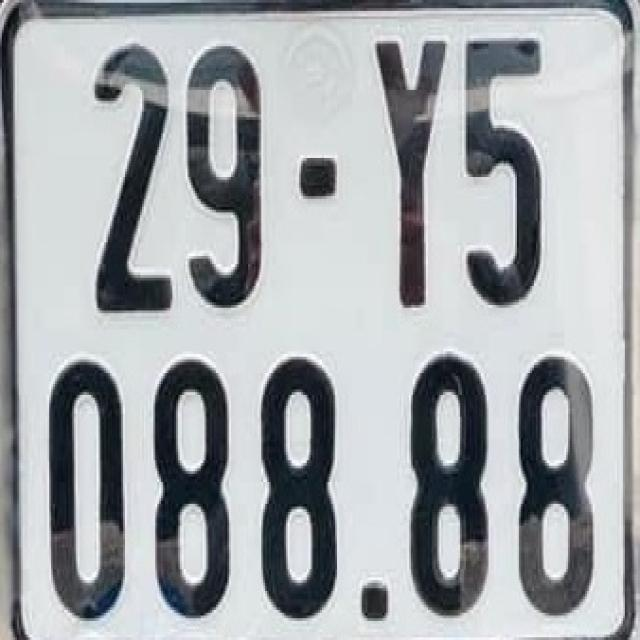0: (44, 351, 130, 621)
2: (84, 35, 177, 318)
5: (456, 26, 551, 309)
8: (254, 343, 346, 624), (404, 343, 494, 621), (512, 344, 601, 620), (148, 348, 235, 624)
9: (180, 35, 273, 314)
Y: (369, 27, 451, 310)
